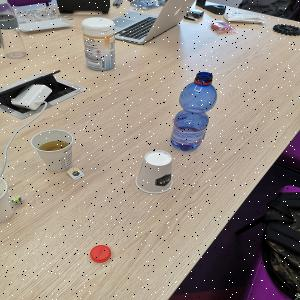Cup: (31, 130, 75, 173), (135, 151, 175, 195)
Plastic-bottle: (171, 73, 219, 153), (1, 1, 28, 60)
